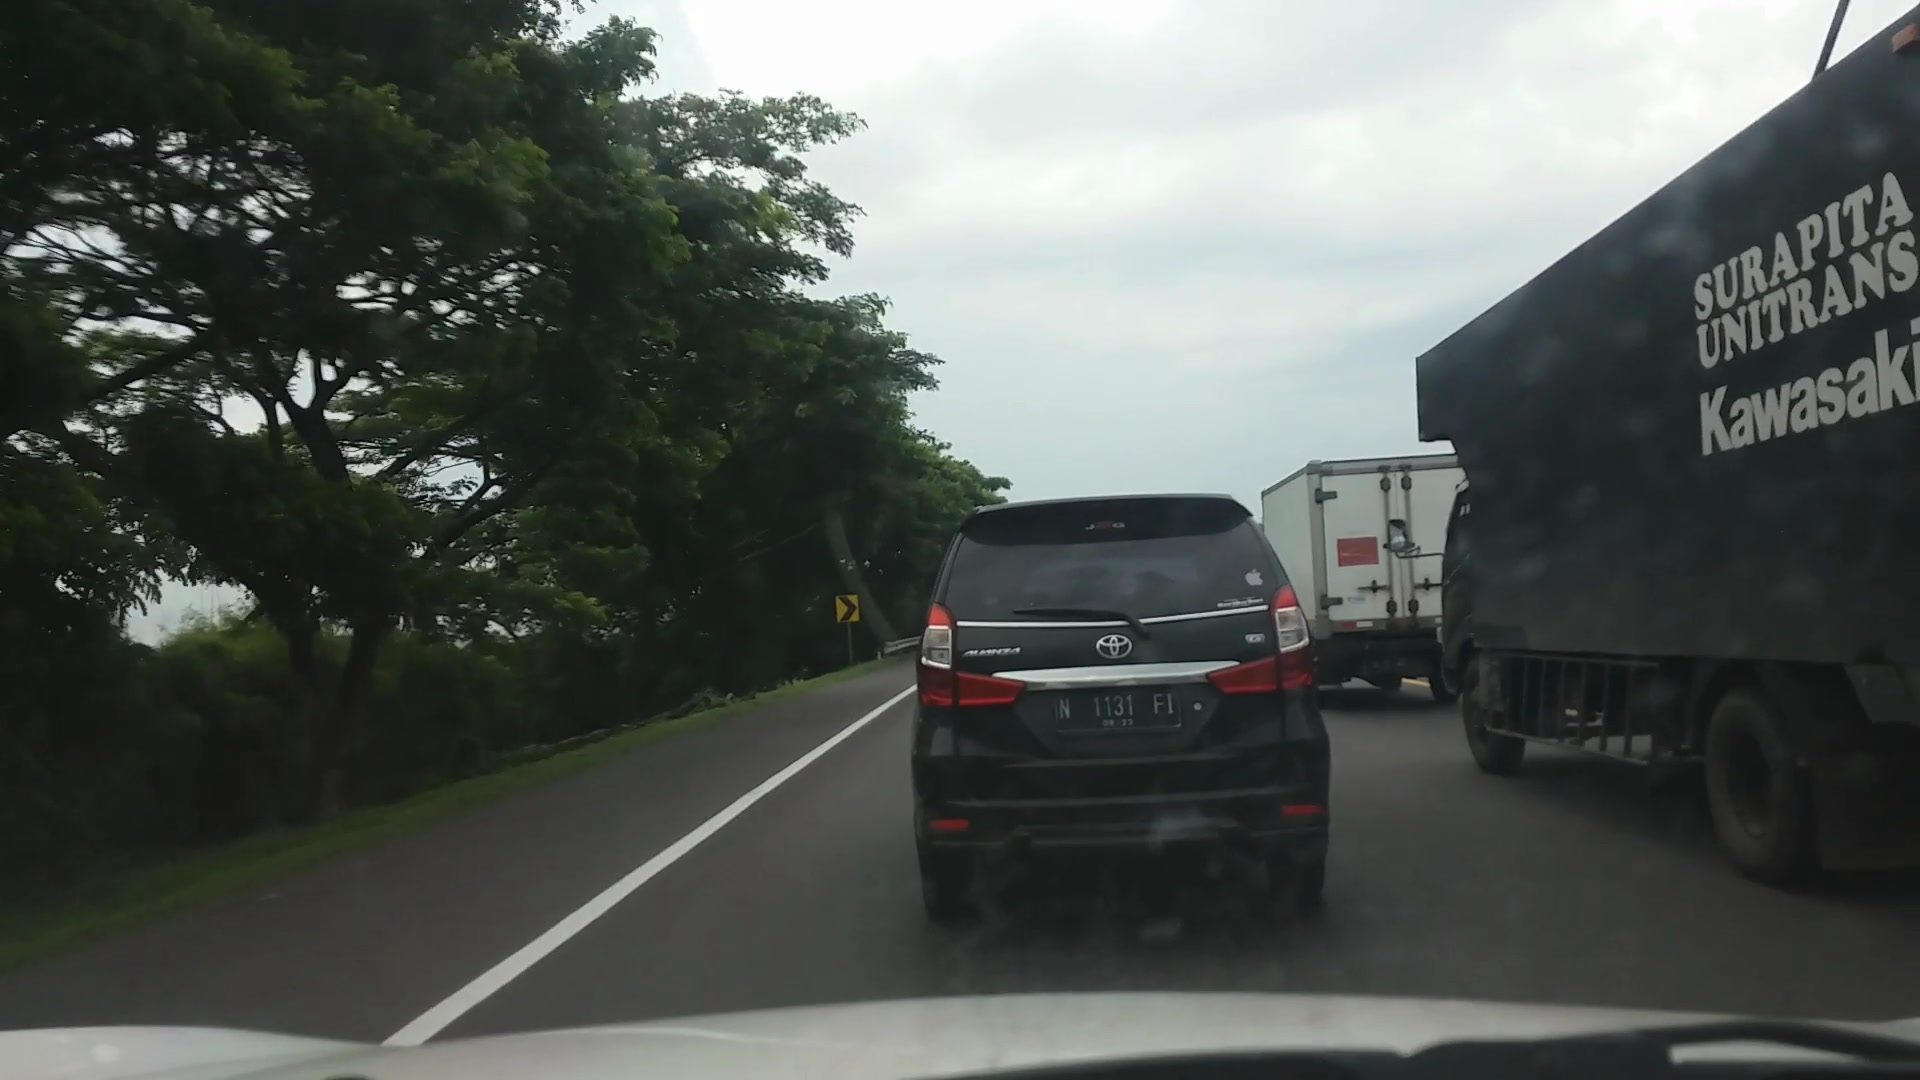plate_positive: (1054, 688, 1182, 729)
